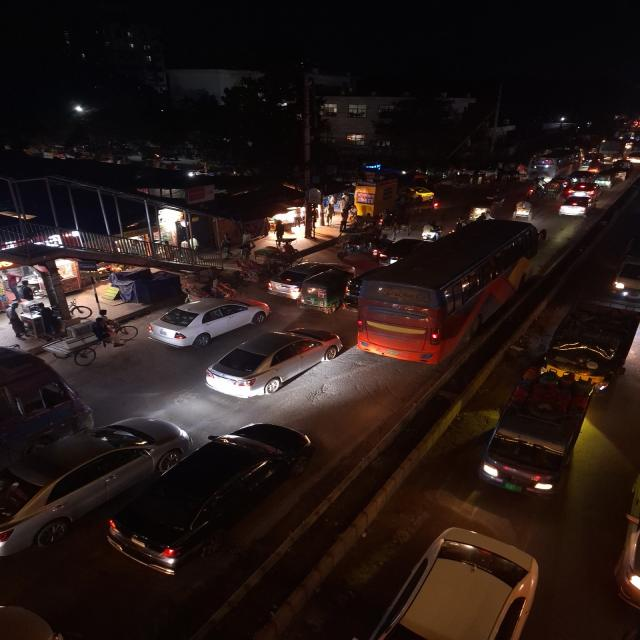bus: (353, 217, 538, 367), (0, 340, 93, 480), (531, 149, 578, 177)
car: (100, 421, 320, 575), (0, 413, 192, 558), (333, 523, 550, 640), (200, 324, 343, 400), (145, 296, 271, 349), (266, 261, 348, 298), (611, 224, 640, 302), (371, 236, 427, 264), (556, 194, 597, 218), (566, 182, 596, 198)
cng: (298, 271, 349, 316), (595, 173, 613, 189)
motorcycle: (87, 313, 135, 349)
pickup_van: (480, 367, 608, 500), (609, 159, 637, 180)
rickshaw: (232, 247, 283, 283), (511, 198, 535, 220)
